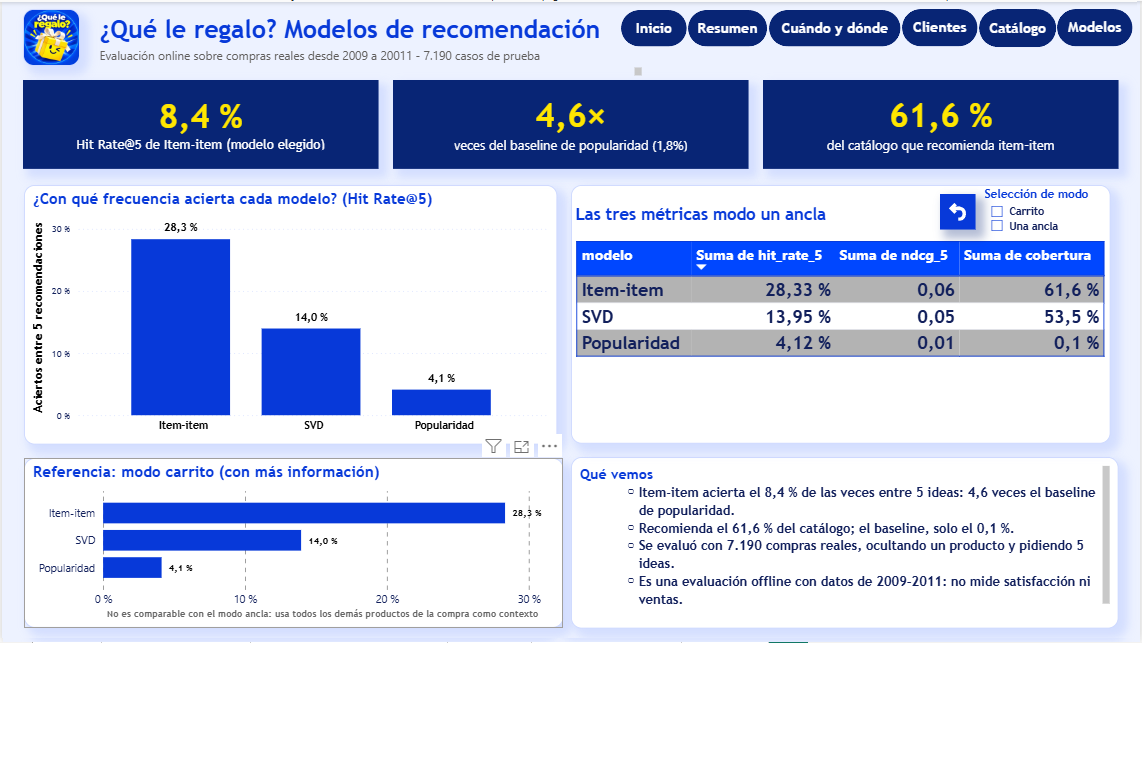

The page's visual inventory and layout, read from the dashboard file:
{"tool":"powerbi","page":{"name":"Modelos","canvas":[1280,720],"ordinal":5},"visuals":[{"type":"image","box":[24,8,64,64],"z":0},{"type":"textbox","title":"¿Qué le regalo? Modelos de recomendación","box":[104.3,14.3,620,72.9],"z":1000},{"type":"clusteredColumnChart","title":"¿Con qué frecuencia acierta cada modelo? (Hit Rate@5)","fields":{"Category":["modelos.modelo"],"Y":["Sum(modelos.hit_rate_5)"]},"box":[24.3,205.7,600,292],"z":2000},{"type":"clusteredBarChart","title":"Referencia: modo carrito (con más información)","fields":{"Category":["modelos.modelo"],"Y":["Sum(modelos.hit_rate_5)"]},"box":[24.3,512.9,607.1,191.4],"z":3000},{"type":"textbox","box":[640,511.4,615.7,192.9],"z":4000},{"type":"actionButton","box":[696,9,74,41],"z":5000},{"type":"actionButton","box":[772,9,89,41],"z":6000},{"type":"actionButton","box":[1099,8,87,43],"z":7000},{"type":"actionButton","box":[863,9,148,41],"z":8000},{"type":"actionButton","box":[1187,8,85,42],"z":9000},{"type":"actionButton","box":[1012,8,85,42],"z":10000},{"type":"cardVisual","fields":{"Data":["Sum(modelos.hit_rate_5)"]},"box":[24,88,400,100],"z":11000},{"type":"cardVisual","fields":{"Data":["Sum(modelos.veces_baseline)"]},"box":[440,88,400,100],"z":12000},{"type":"cardVisual","fields":{"Data":["Sum(modelos.cobertura)"]},"box":[856,88,400,100],"z":13000},{"type":"tableEx","title":"Las tres métricas modo un ancla ","fields":{"Values":["modelos.modelo","Sum(modelos.hit_rate_5)","Sum(modelos.ndcg_5)","Sum(modelos.cobertura)"]},"box":[640,205.7,607.1,291.4],"z":14000},{"type":"slicer","title":"Selección de modo","fields":{"Values":["modelos.modo"]},"box":[1100.8,207.1,142.9,73.9],"z":15000},{"type":"actionButton","box":[1054.8,215.6,40,40],"z":16000}]}

Visuals, with their boxes on the page's 1280x720 design canvas (x1, y1, x2, y2). These are canvas units, not pixel positions in the 1142x768 screenshot, which may show the page scaled, cropped or inside an application window:
image: (24,8,88,72)
"¿Qué le regalo? Modelos de recomendación" textbox: (104,14,724,87)
"¿Con qué frecuencia acierta cada modelo? (Hit Rate@5)" clusteredColumnChart: (24,206,624,498)
"Referencia: modo carrito (con más información)" clusteredBarChart: (24,513,631,704)
textbox: (640,511,1256,704)
actionButton: (696,9,770,50)
actionButton: (772,9,861,50)
actionButton: (1099,8,1186,51)
actionButton: (863,9,1011,50)
actionButton: (1187,8,1272,50)
actionButton: (1012,8,1097,50)
cardVisual - Sum(modelos.hit_rate_5): (24,88,424,188)
cardVisual - Sum(modelos.veces_baseline): (440,88,840,188)
cardVisual - Sum(modelos.cobertura): (856,88,1256,188)
"Las tres métricas modo un ancla " tableEx: (640,206,1247,497)
"Selección de modo" slicer: (1101,207,1244,281)
actionButton: (1055,216,1095,256)
